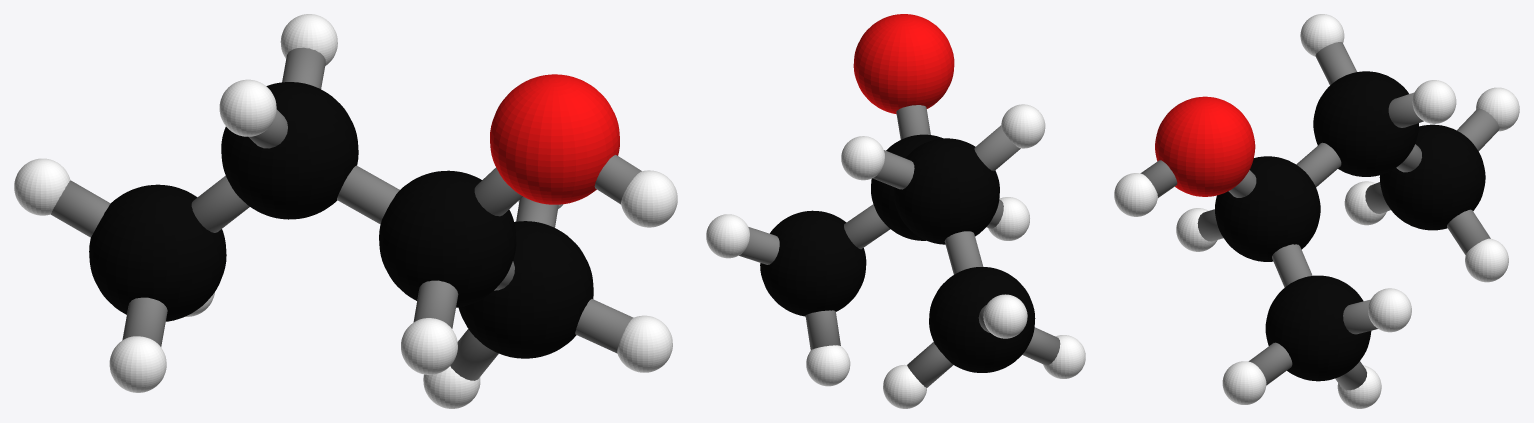
Rendered from SECBUTILICO.obj.
The picture shows the model from 3 angles, left to right: view 1: azimuth 30°, elevation 25°; view 2: azimuth 150°, elevation 25°; view 3: azimuth 270°, elevation 25°; orthographic projection. The views are drawn at different scales.
Parts seen in each view (by area): view 1: Carbon_ball_Sphere.001, Hydrogen_ball_Sphere, Oxygen_ball_Sphere.002, Stick_Cylinder.010_Cylinder.010, Stick_Cylinder.013_Cylinder.013, Stick_Cylinder.012_Cylinder.012, Stick_Cylinder.004_Cylinder.004, Stick_Cylinder.009_Cylinder.009, Stick_Cylinder.008_Cylinder.008, Stick_Cylinder_Cylinder, Stick_Cylinder.006_Cylinder.006, Stick_Cylinder.011_Cylinder.011 (+3 smaller); view 2: Carbon_ball_Sphere.001, Hydrogen_ball_Sphere, Oxygen_ball_Sphere.002, Stick_Cylinder.012_Cylinder.012, Stick_Cylinder.003_Cylinder.003, Stick_Cylinder_Cylinder, Stick_Cylinder.007_Cylinder.007, Stick_Cylinder.005_Cylinder.005, Stick_Cylinder.006_Cylinder.006, Stick_Cylinder.002_Cylinder.002, Stick_Cylinder.011_Cylinder.011, Stick_Cylinder.009_Cylinder.009; view 3: Carbon_ball_Sphere.001, Hydrogen_ball_Sphere, Oxygen_ball_Sphere.002, Stick_Cylinder.010_Cylinder.010, Stick_Cylinder.003_Cylinder.003, Stick_Cylinder.007_Cylinder.007, Stick_Cylinder.005_Cylinder.005, Stick_Cylinder.013_Cylinder.013, Stick_Cylinder.004_Cylinder.004, Stick_Cylinder.002_Cylinder.002, Stick_Cylinder.006_Cylinder.006, Stick_Cylinder.001_Cylinder.001 (+5 smaller).
Boxes of the visible parts, box(x1,y1,x2,y2) form: Carbon_ball_Sphere.001: box(89, 82, 593, 358); Hydrogen_ball_Sphere: box(14, 14, 677, 408); Oxygen_ball_Sphere.002: box(490, 74, 619, 204); Stick_Cylinder.010_Cylinder.010: box(337, 165, 399, 224); Stick_Cylinder.013_Cylinder.013: box(51, 180, 110, 237); Stick_Cylinder.012_Cylinder.012: box(191, 175, 249, 232); Stick_Cylinder.004_Cylinder.004: box(575, 299, 633, 353); Stick_Cylinder.009_Cylinder.009: box(122, 297, 167, 346); Stick_Cylinder.008_Cylinder.008: box(413, 280, 458, 328); Stick_Cylinder_Cylinder: box(450, 329, 498, 380); Stick_Cylinder.006_Cylinder.006: box(282, 47, 325, 88); Stick_Cylinder.011_Cylinder.011: box(474, 167, 522, 216); Carbon_ball_Sphere.001: box(760, 134, 1035, 372); Hydrogen_ball_Sphere: box(706, 104, 1085, 408); Oxygen_ball_Sphere.002: box(853, 14, 954, 114); Stick_Cylinder.012_Cylinder.012: box(944, 231, 983, 274); Stick_Cylinder.003_Cylinder.003: box(844, 204, 890, 249); Stick_Cylinder_Cylinder: box(805, 310, 840, 350); Stick_Cylinder.007_Cylinder.007: box(907, 342, 953, 387); Stick_Cylinder.005_Cylinder.005: box(974, 125, 1020, 171); Stick_Cylinder.006_Cylinder.006: box(872, 150, 914, 189); Stick_Cylinder.002_Cylinder.002: box(739, 227, 779, 264); Stick_Cylinder.011_Cylinder.011: box(896, 105, 930, 139); Stick_Cylinder.009_Cylinder.009: box(1022, 327, 1060, 365); Carbon_ball_Sphere.001: box(1215, 71, 1485, 381); Hydrogen_ball_Sphere: box(1114, 14, 1519, 408); Oxygen_ball_Sphere.002: box(1155, 96, 1255, 196); Stick_Cylinder.010_Cylinder.010: box(1296, 142, 1341, 187); Stick_Cylinder.003_Cylinder.003: box(1272, 244, 1312, 287); Stick_Cylinder.007_Cylinder.007: box(1447, 209, 1490, 254); Stick_Cylinder.005_Cylinder.005: box(1315, 42, 1356, 85); Stick_Cylinder.013_Cylinder.013: box(1457, 108, 1499, 151); Stick_Cylinder.004_Cylinder.004: box(1248, 342, 1292, 385); Stick_Cylinder.002_Cylinder.002: box(1343, 299, 1377, 334); Stick_Cylinder.006_Cylinder.006: box(1388, 92, 1423, 127); Stick_Cylinder.001_Cylinder.001: box(1140, 160, 1177, 197).
Size of the model in its own units: 5.65 by 4.43 by 5.31.
